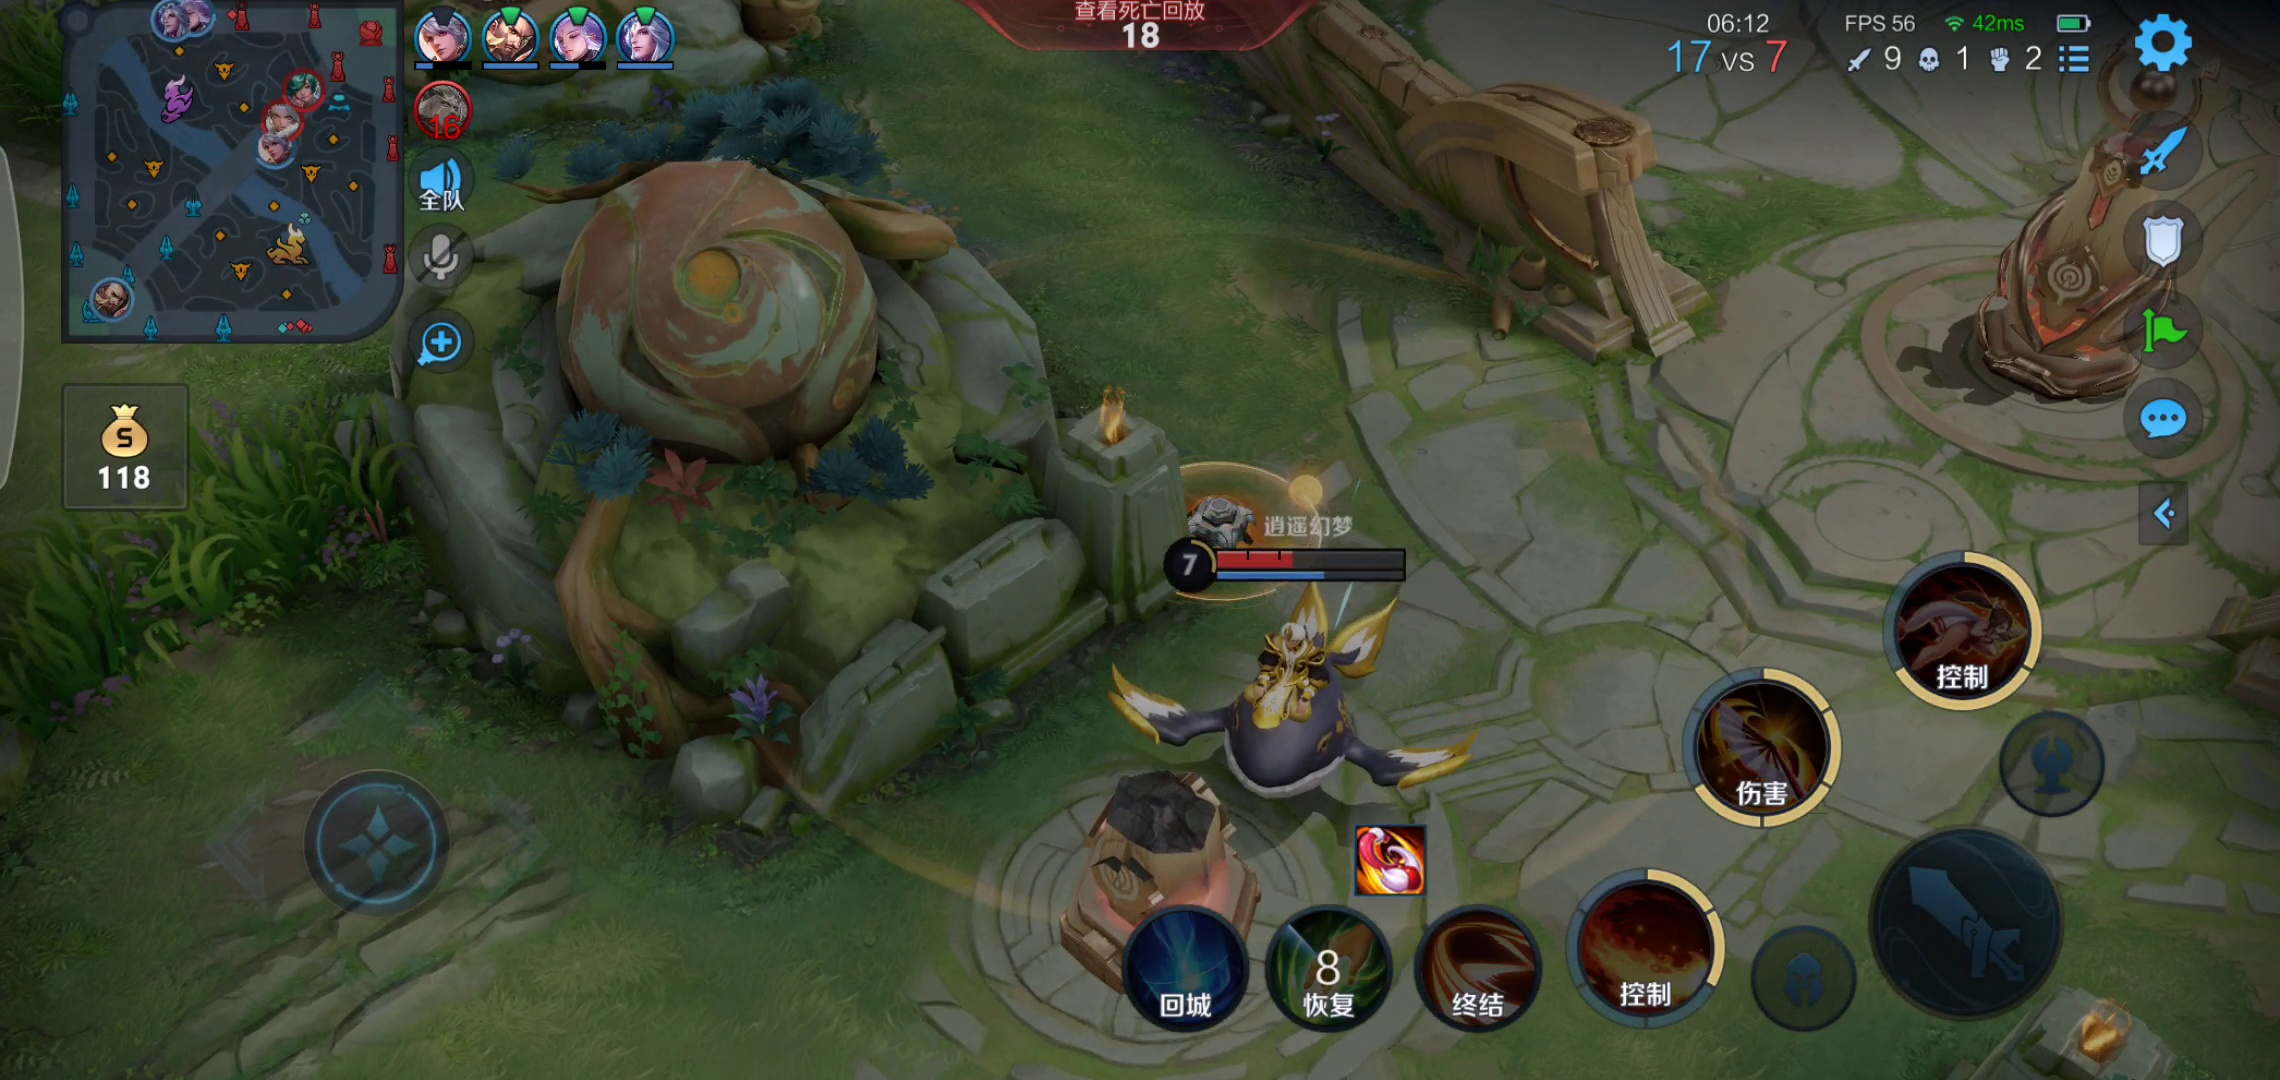grass: (15, 398, 413, 704)
hero: (1140, 580, 1469, 837)
tower: (1948, 45, 2251, 414)
